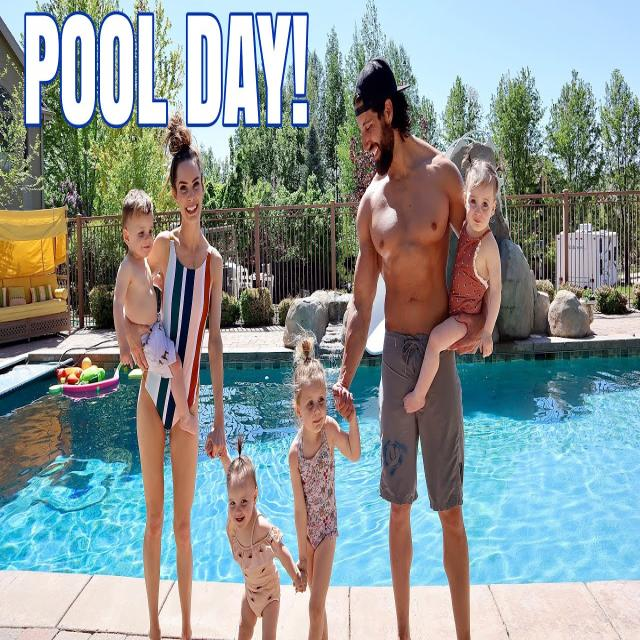adult: (330, 55, 474, 640), (132, 127, 226, 640)
child: (404, 156, 506, 416), (284, 331, 359, 640), (111, 183, 200, 440), (207, 432, 302, 640)
